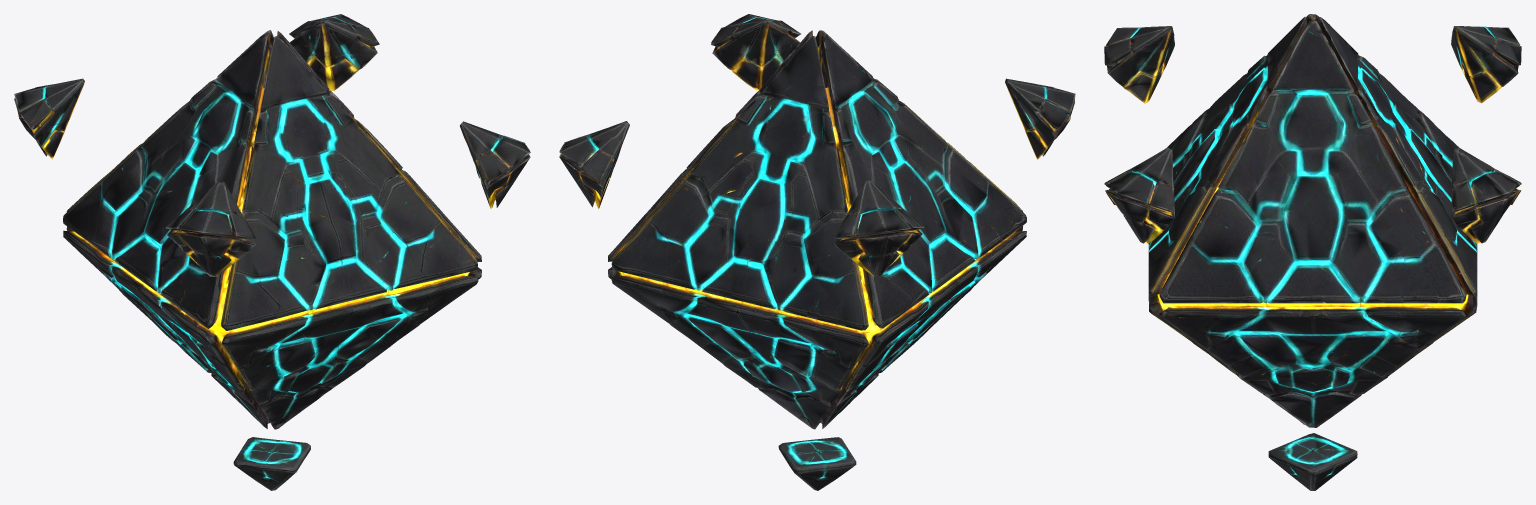
File: fury_core.glb
3 renders of one model, left to right at view 1: azimuth 30°, elevation 25°; view 2: azimuth 150°, elevation 25°; view 3: azimuth 270°, elevation 25°, orthographic. The views are drawn at different scales.
Parts seen in each view (by area): view 1: mesh_node; view 2: mesh_node; view 3: mesh_node.
Part boxes in pixels (<box>): mesh_node: <box>14,14,530,490</box>; mesh_node: <box>559,14,1075,490</box>; mesh_node: <box>1104,14,1521,490</box>.
Bounding box in the file's own units: 1.52 × 1.9 × 1.52.
Materials: 1 (1 with a texture image).
